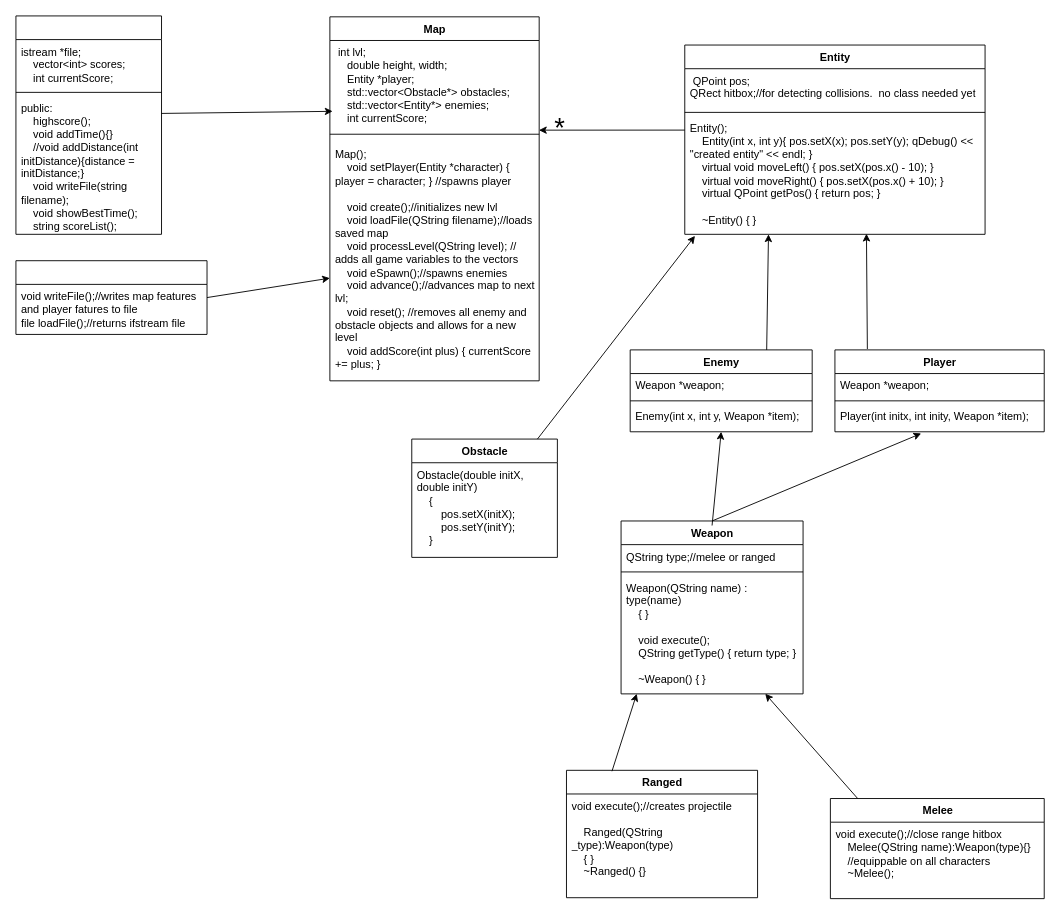
This 1060x915 diagram has some shape labels left out. The box of each missing label's shape, as (x1, y1, x2, y2) in pixels:
highscores: (15, 15, 162, 234)
Save: (15, 260, 207, 334)
